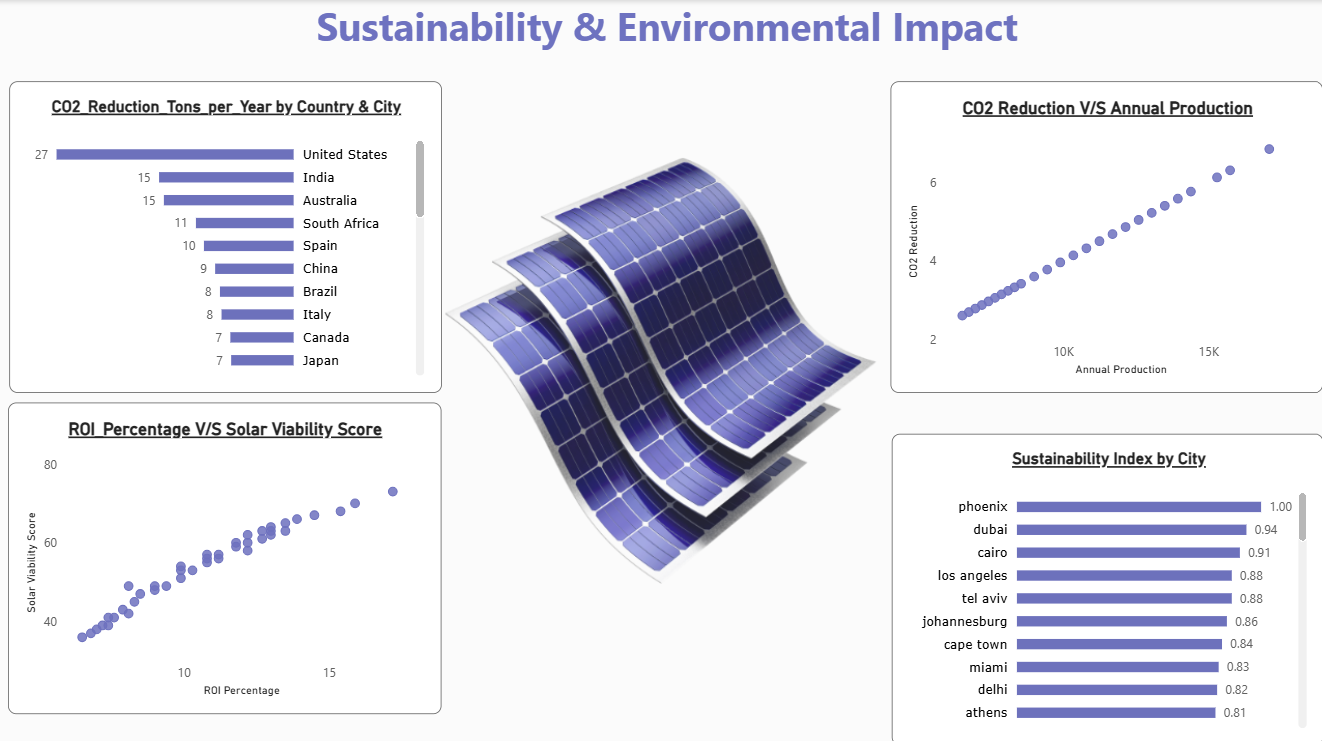

What the dashboard file says about the page in this screenshot:
{"tool":"powerbi","page":{"name":"Sustainability & Environmental Impact","canvas":[1280,720],"ordinal":2},"visuals":[{"type":"textbox","box":[10.4,0,1269.9,55.8],"z":0},{"type":"barChart","title":" CO2_Reduction_Tons_per_Year by Country & City","fields":{"Y":["Sum(solar_energy_worldwide.CO2_Reduction_Tons_per_Year)"],"Category":["solar_energy_worldwide.Country","solar_energy_worldwide.City"]},"box":[10.4,77.8,417.7,300.9],"z":1000},{"type":"scatterChart","title":"ROI_Percentage V/S Solar Viability Score","fields":{"X":["solar_energy_worldwide.ROI_Percentage"],"Y":["solar_energy_worldwide.Solar_Viability_Score"]},"box":[10,389,418,301],"z":2000},{"type":"scatterChart","title":"CO2 Reduction V/S Annual Production","fields":{"Y":["solar_energy_worldwide.CO2_Reduction_Tons_per_Year"],"X":["solar_energy_worldwide.Avg_Annual_Production_kWh"]},"box":[861.3,77.8,418,301],"z":3000},{"type":"barChart","title":"Sustainability Index by City","fields":{"Category":["solar_energy_worldwide.City"],"Y":["Measures Table.Sustainability Index"]},"box":[862.6,419,417.7,300.9],"z":4000}]}

Visuals, with their boxes in screenshot pixels (x1, y1, x2, y2), scaled from the page's 1280x720 canvas onto the 1322x741 screenshot:
textbox: 11, 0, 1321, 57
" CO2_Reduction_Tons_per_Year by Country & City" barChart: 11, 80, 442, 390
"ROI_Percentage V/S Solar Viability Score" scatterChart: 10, 400, 442, 710
"CO2 Reduction V/S Annual Production" scatterChart: 890, 80, 1321, 390
"Sustainability Index by City" barChart: 891, 431, 1321, 740
